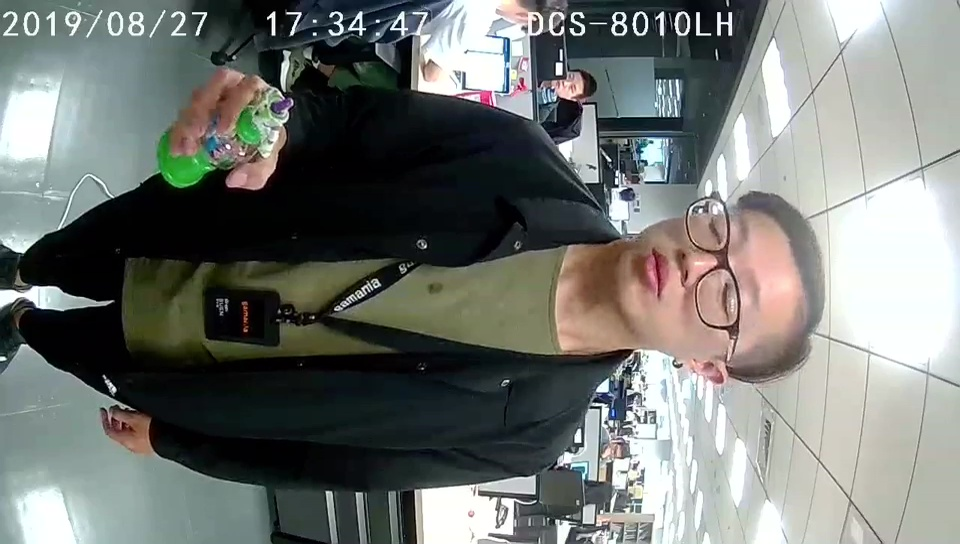buzz: (156, 84, 296, 187)
